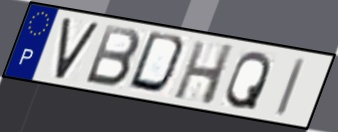B: (82, 22, 143, 89)
D: (125, 29, 191, 98)
H: (171, 39, 238, 108)
I: (273, 56, 308, 120)
Q: (223, 49, 274, 112)
V: (53, 17, 103, 82)
